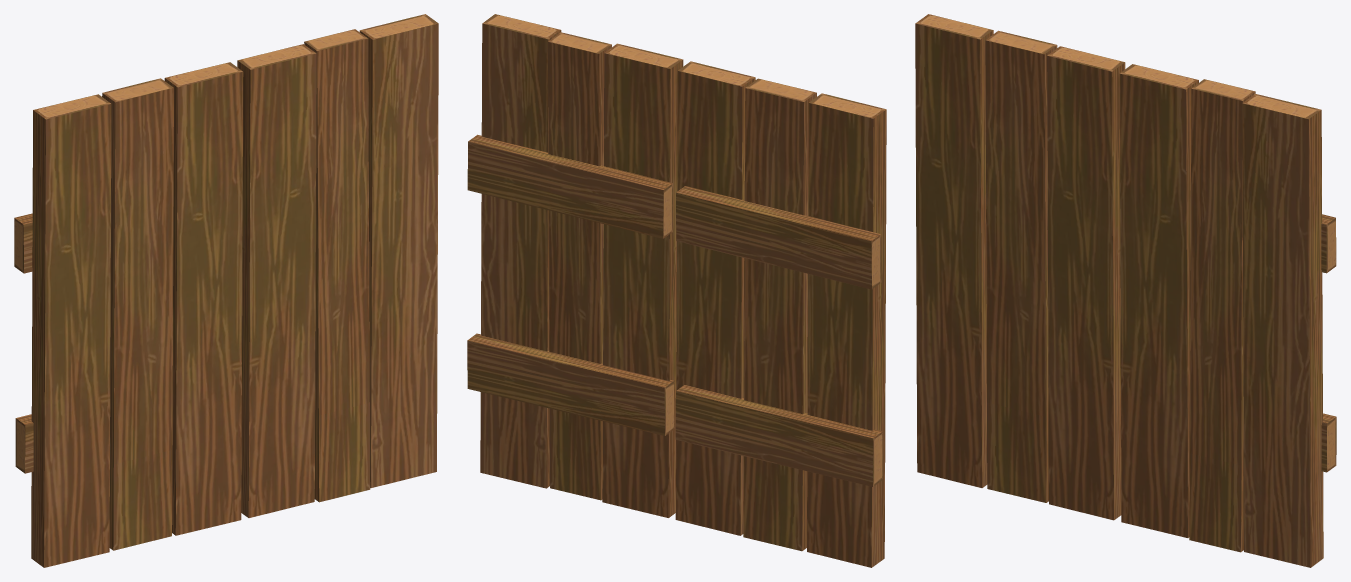
The model's file is WindowShutters_Wide_Flat_Closed.glb.
3 views of the same model, side by side, from view 1: azimuth 30°, elevation 25°; view 2: azimuth 150°, elevation 25°; view 3: azimuth 330°, elevation 25° (orthographic).
Parts seen in each view (by area): view 1: WindowShutters_Wide_Flat_Closed; view 2: WindowShutters_Wide_Flat_Closed; view 3: WindowShutters_Wide_Flat_Closed.
Boxes of the visible parts, bbox=[...] form: WindowShutters_Wide_Flat_Closed: bbox=[14, 14, 438, 567]; WindowShutters_Wide_Flat_Closed: bbox=[467, 14, 886, 567]; WindowShutters_Wide_Flat_Closed: bbox=[915, 14, 1336, 567].
Bounding box in the file's own units: 1.35 × 1.42 × 0.1358.
1 material, 1 textured.
